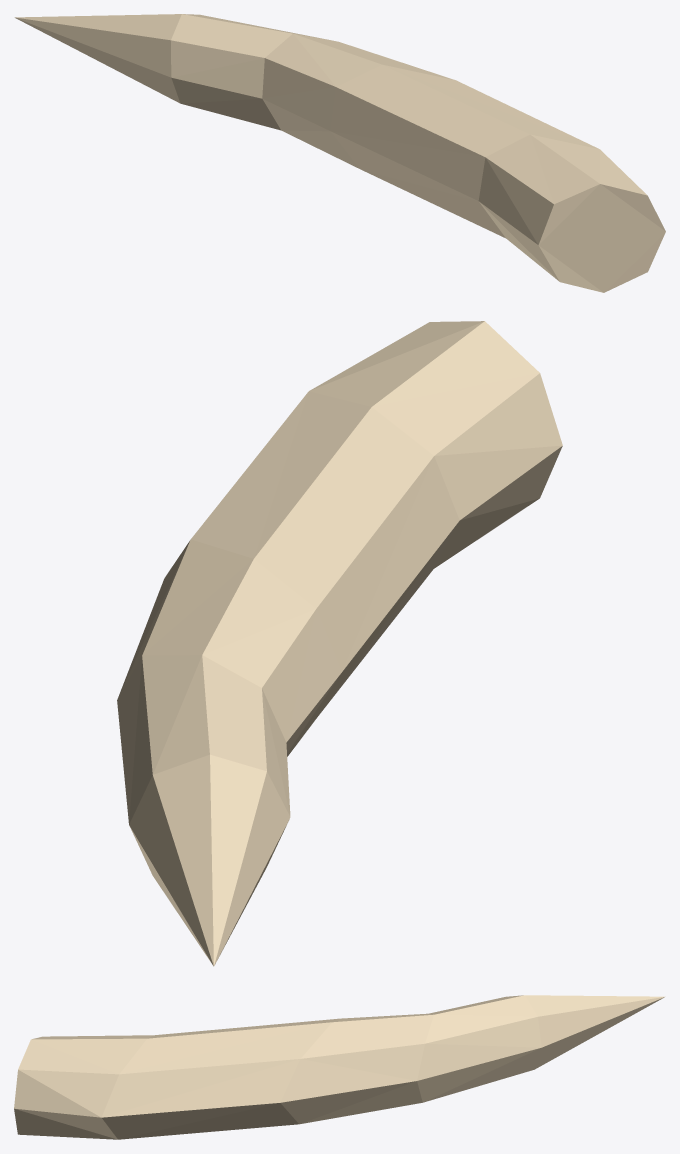
File: SM_spike_ground_03.fbx
The picture shows the model from 3 angles, top to bottom: view 1: azimuth 30°, elevation 25°; view 2: azimuth 150°, elevation 25°; view 3: azimuth 270°, elevation 25°; orthographic projection. The views are drawn at different scales.
Parts seen in each view (by area): view 1: spike_ground_03; view 2: spike_ground_03; view 3: spike_ground_03.
Boxes of the visible parts, x1,y1,x2,y2 form: spike_ground_03: (14, 14, 665, 292); spike_ground_03: (117, 321, 562, 966); spike_ground_03: (14, 995, 665, 1139).
Size of the model in its own units: 83.49 by 29.63 by 190.
